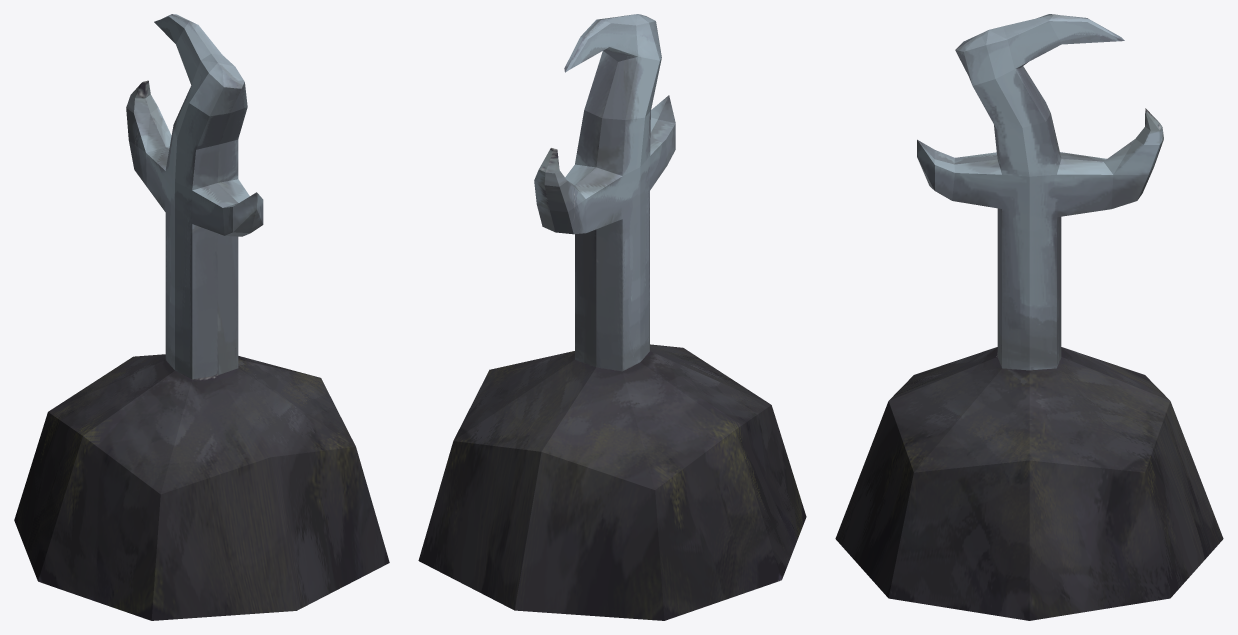
Rendered from Grave_church06.fbx.
3 views of the same model, side by side, from view 1: azimuth 30°, elevation 25°; view 2: azimuth 150°, elevation 25°; view 3: azimuth 270°, elevation 25° (orthographic). The views are drawn at different scales.
Parts seen in each view (by area): view 1: Grave_church06; view 2: Grave_church06; view 3: Grave_church06.
Part boxes in pixels (box(x1,y1,x2,y2)): Grave_church06: box(14, 14, 389, 620); Grave_church06: box(418, 14, 806, 620); Grave_church06: box(835, 14, 1223, 620).
Bounding box in the file's own units: 0.8722 × 1.3 × 0.8722.
1 material, 1 textured.
